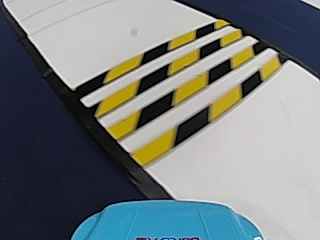bump: (85, 29, 232, 136)
